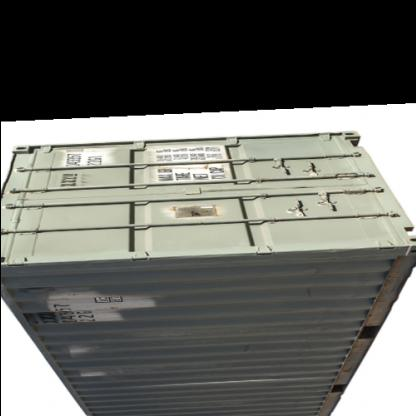Damage: (325, 322, 361, 388), (360, 266, 390, 336)
